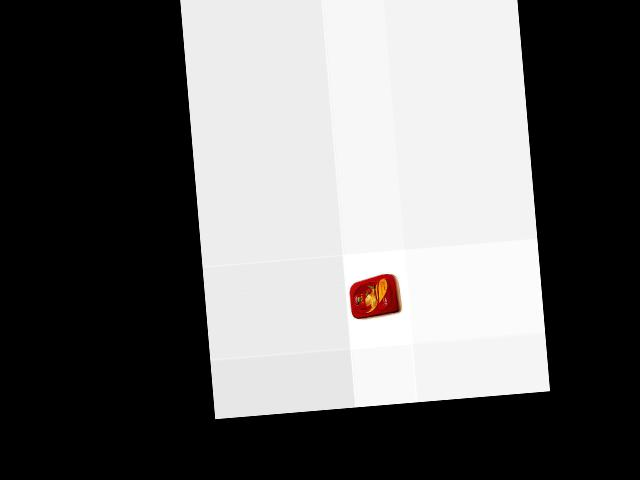cheese: (345, 273, 402, 321)
